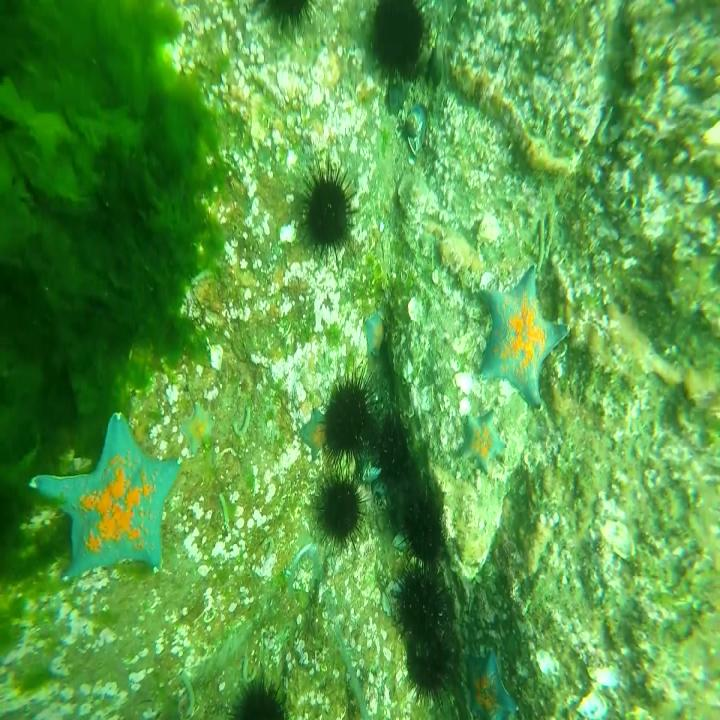echinus: (296, 164, 355, 268), (320, 360, 374, 460), (369, 0, 431, 85), (310, 468, 371, 551), (402, 631, 454, 708), (390, 563, 449, 629), (397, 490, 444, 564), (374, 414, 416, 488), (536, 494, 536, 496)
starfish: (23, 415, 175, 588), (478, 259, 568, 410), (467, 644, 519, 718), (462, 406, 503, 468), (178, 399, 215, 456), (299, 406, 335, 455), (360, 307, 390, 362)
